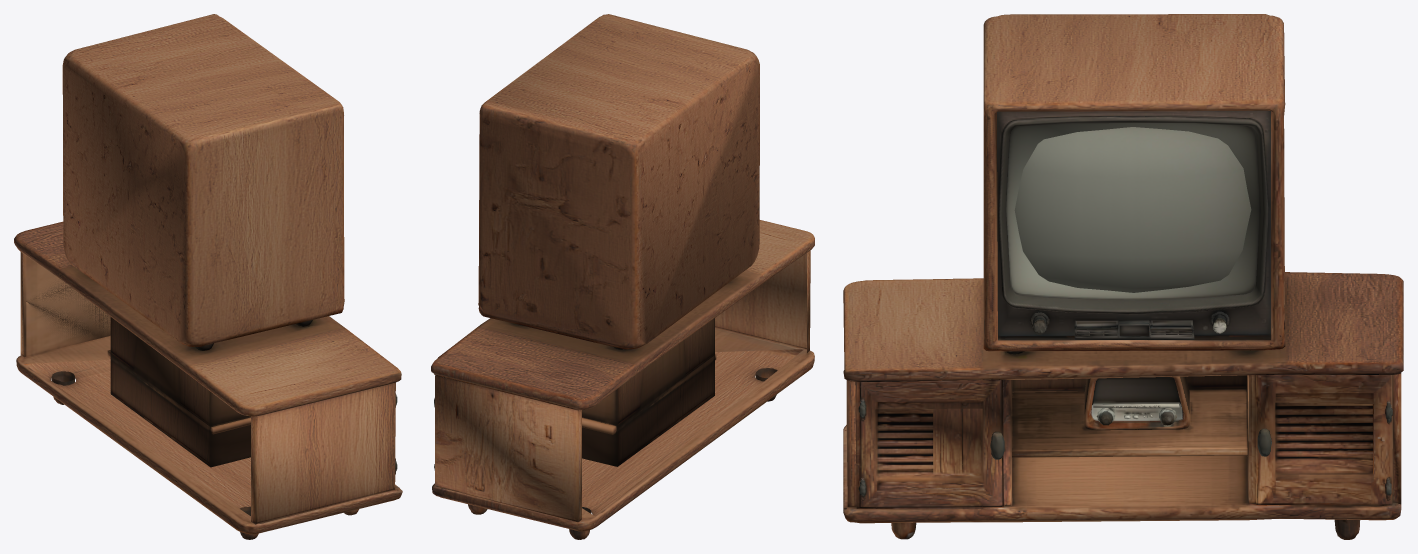
The picture shows the model from 3 angles, left to right: view 1: azimuth 30°, elevation 25°; view 2: azimuth 150°, elevation 25°; view 3: azimuth 270°, elevation 25°; orthographic projection. The views are drawn at different scales.
Visible parts, largest first — view 1: tripo_node_2a2c740b-e0e5-4987-90a4-f9d3980b73a1; view 2: tripo_node_2a2c740b-e0e5-4987-90a4-f9d3980b73a1; view 3: tripo_node_2a2c740b-e0e5-4987-90a4-f9d3980b73a1.
Part boxes in pixels (x1=…): tripo_node_2a2c740b-e0e5-4987-90a4-f9d3980b73a1: x1=14, y1=14, x2=402, y2=539; tripo_node_2a2c740b-e0e5-4987-90a4-f9d3980b73a1: x1=431, y1=14, x2=814, y2=539; tripo_node_2a2c740b-e0e5-4987-90a4-f9d3980b73a1: x1=843, y1=14, x2=1403, y2=539.
Bounding box in the file's own units: 0.4238 × 0.8887 × 0.998.
1 material, 1 textured.
